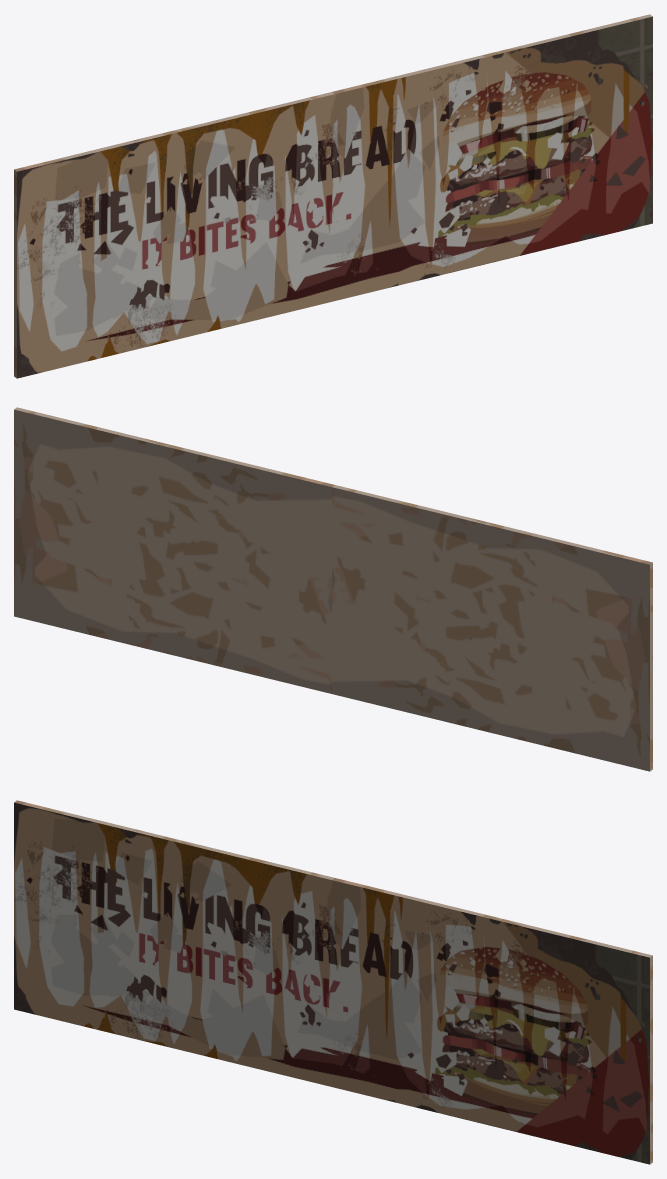
Rendered from SM_Prop_Sign_Billboard_Base_02.obj.
3 views of the same model, one above another, from view 1: azimuth 30°, elevation 25°; view 2: azimuth 150°, elevation 25°; view 3: azimuth 330°, elevation 25° (orthographic).
Parts seen in each view (by area): view 1: SM_Prop_Sign_Billboard_Base_02_0; view 2: SM_Prop_Sign_Billboard_Base_02_0; view 3: SM_Prop_Sign_Billboard_Base_02_0.
Boxes of the visible parts, bbox=[...] form: SM_Prop_Sign_Billboard_Base_02_0: bbox=[14, 14, 652, 378]; SM_Prop_Sign_Billboard_Base_02_0: bbox=[14, 407, 652, 771]; SM_Prop_Sign_Billboard_Base_02_0: bbox=[14, 800, 652, 1164].
Bounding box in the file's own units: 8.99 × 2.79 × 0.0748.
Materials: 1 (1 with a texture image).
